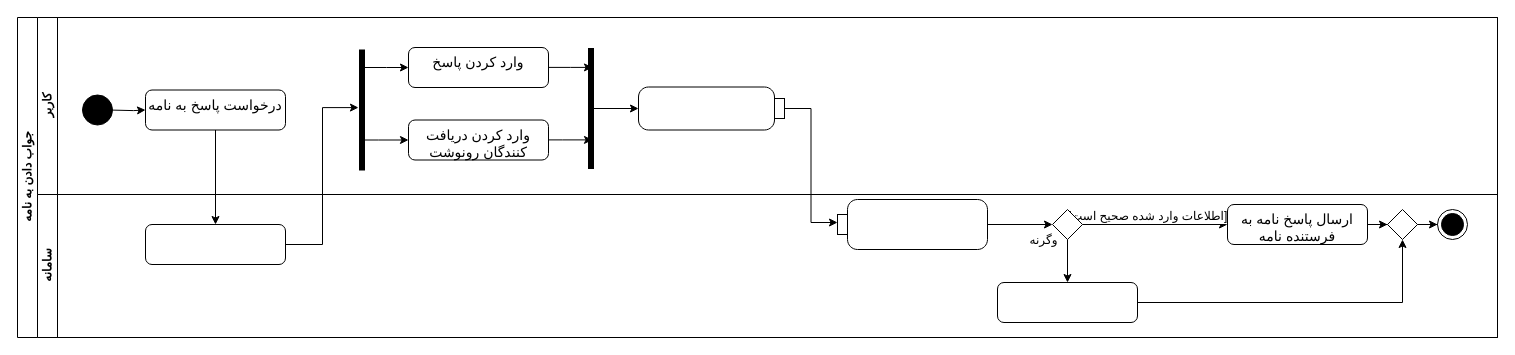
Some shapes in this 1515 by 355 pixel diagram are drawn without their labels. The shapes that lost their labels are listed below. From the top down, each one's box as (x1, y1, x2, y2) in pixels, then its label:
(638, 86, 784, 130): تایید پاسخ نامه توسط کاربر
(144, 224, 286, 264): نمایش اطلاعات نامه ودرخواست پاسخ
(836, 198, 988, 250): بررسی اطلاعات
(996, 282, 1138, 322): اعلام نامعتبر بودن اطلاعات
